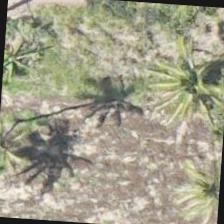Kelapa_Sawit: (0, 76, 65, 171)
